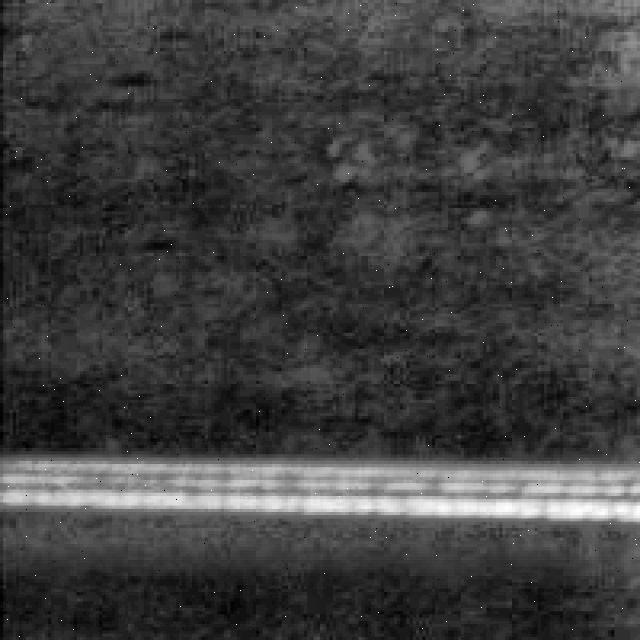Inclusion: (0, 438, 634, 528)
